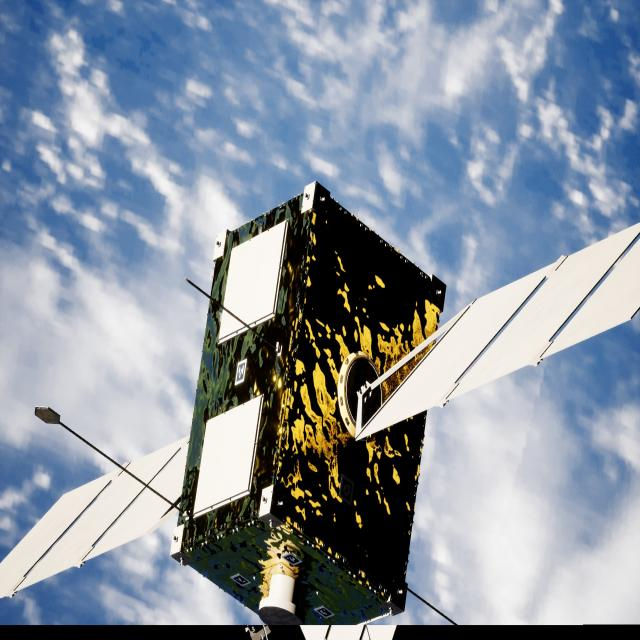satellite: (0, 183, 640, 640)
